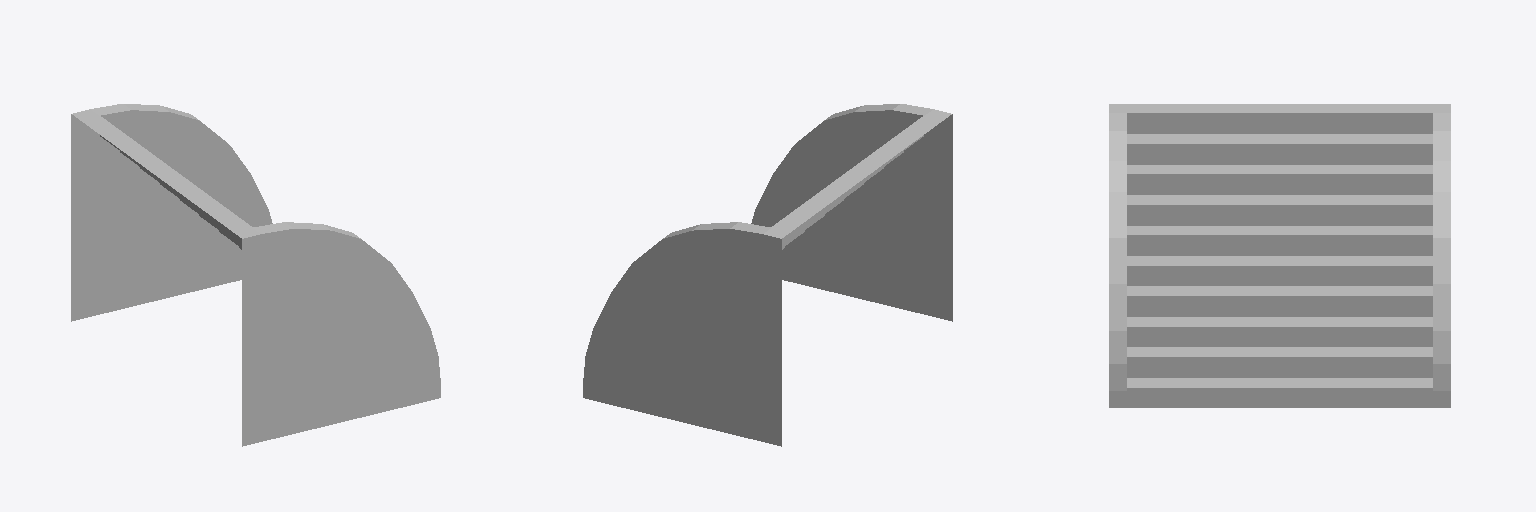
Rendered from stairs1.obj.
The picture shows the model from 3 angles: view 1: azimuth 30°, elevation 25°; view 2: azimuth 150°, elevation 25°; view 3: azimuth 270°, elevation 25°; orthographic projection.
Parts seen in each view (by area): view 1: polySurface3; view 2: polySurface3; view 3: polySurface3.
Part boxes in pixels (bbox=[...]): polySurface3: bbox=[71, 104, 440, 446]; polySurface3: bbox=[583, 104, 952, 446]; polySurface3: bbox=[1109, 104, 1450, 407].
Size of the model in its own units: 3 by 3 by 4.47.